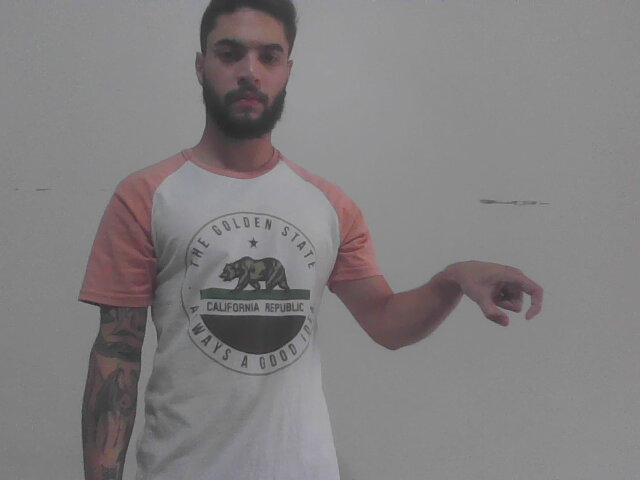x: (436, 253, 546, 344)
